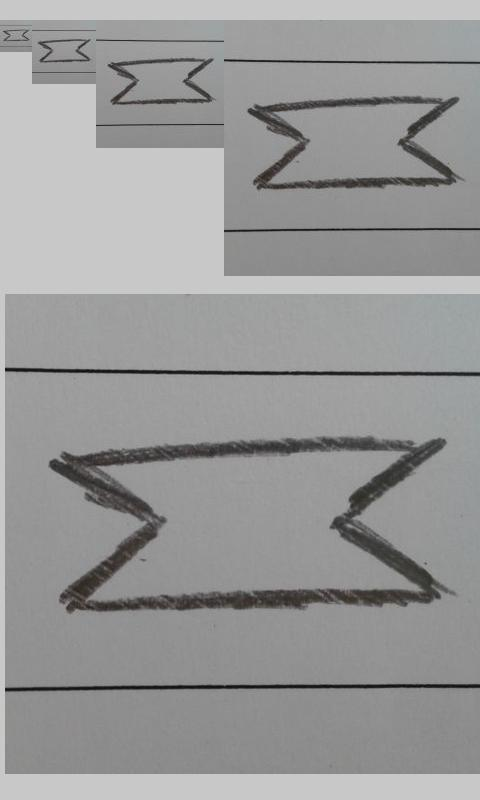edit_text: (52, 437, 446, 614), (249, 96, 462, 190), (108, 58, 213, 105), (38, 39, 91, 63), (2, 29, 30, 42)
